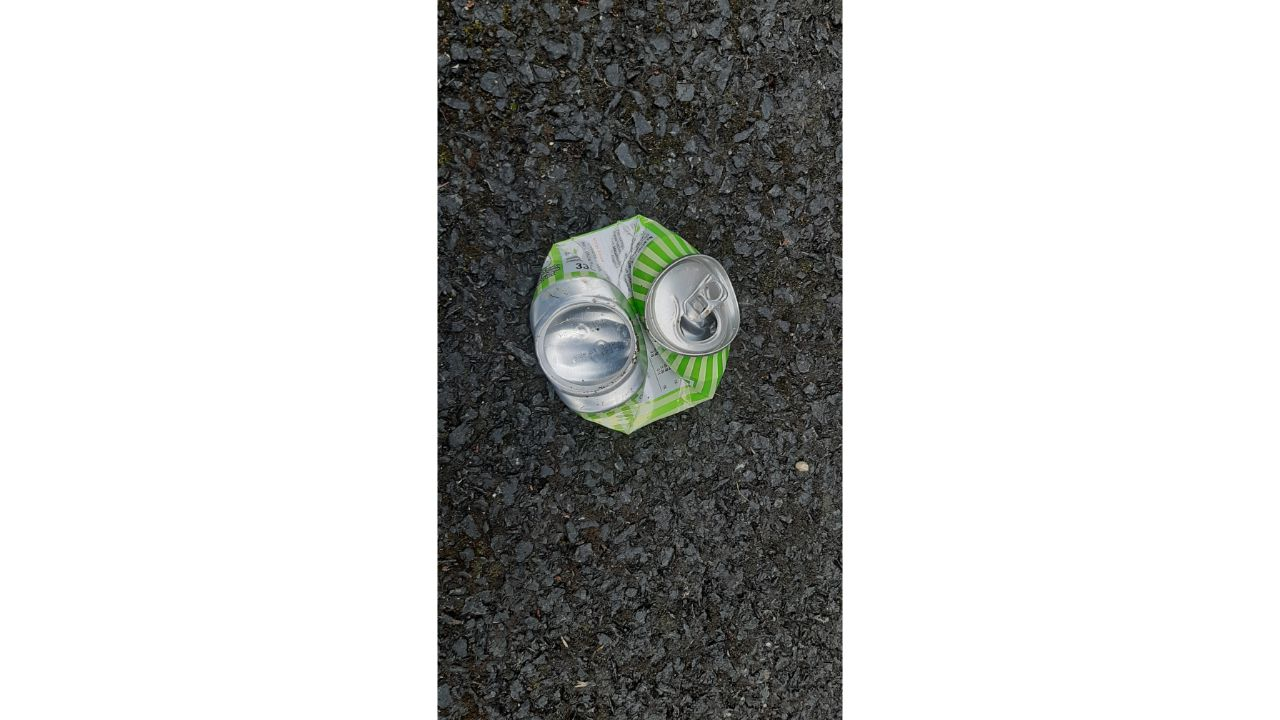Can: (531, 215, 738, 436)
